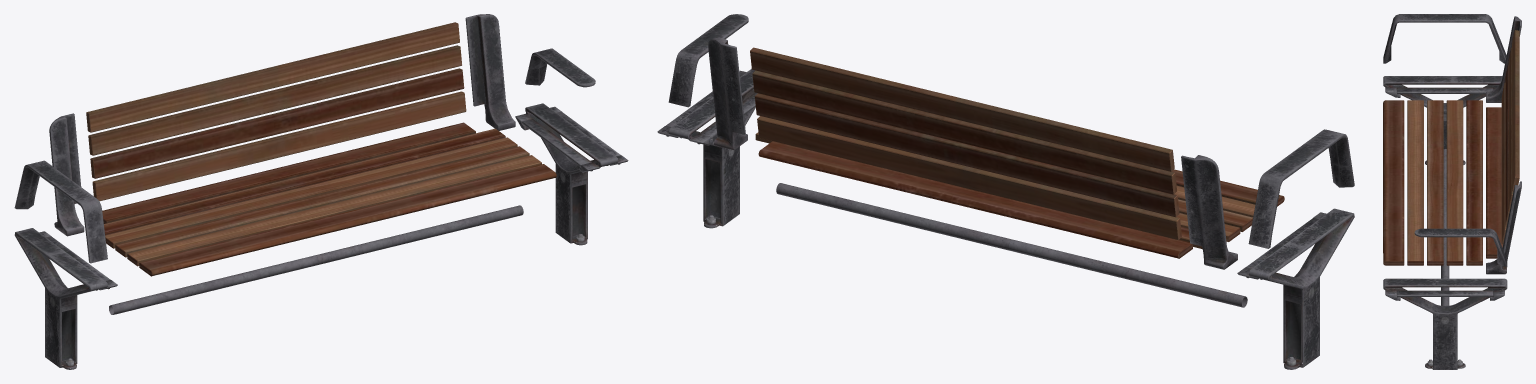
The model's file is bench.glb.
The picture shows the model from 3 angles, left to right: view 1: azimuth 30°, elevation 25°; view 2: azimuth 150°, elevation 25°; view 3: azimuth 270°, elevation 25°; orthographic projection. The views are drawn at different scales.
Visible parts, largest first — view 1: arm_rest_01; view 2: arm_rest_01; view 3: arm_rest_01.
Boxes of the visible parts, <box> form: arm_rest_01: <box>14,14,628,369</box>; arm_rest_01: <box>657,14,1354,369</box>; arm_rest_01: <box>1383,14,1521,369</box>.
Bounding box in the file's own units: 2.45 × 0.8669 × 0.6708.
4 materials, 4 textured.
